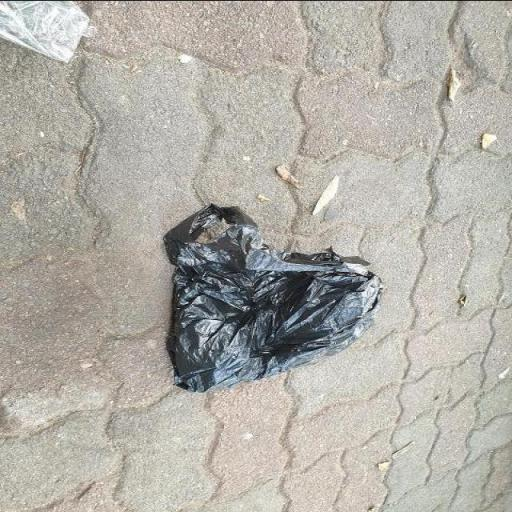plastic-bag: (162, 205, 385, 394)
